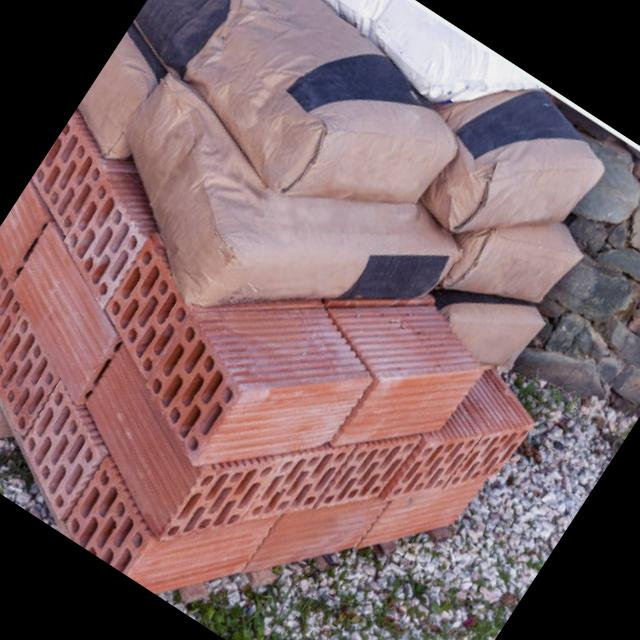KantongSemen: (16, 0, 640, 479)
